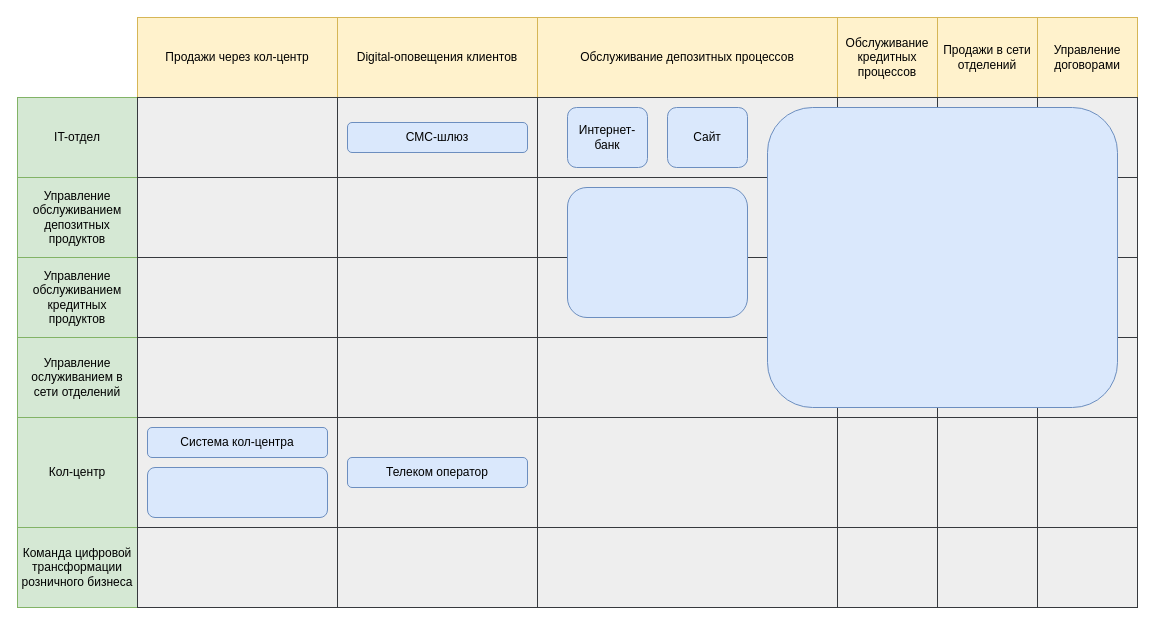
Some shapes in this 1155 by 625 pixel diagram are drawn without their labels. The box of each missing label's shape, as (x1, y1, x2, y2) in pixels:
Excel файл по электронной почте: (566, 186, 748, 318)
АБС: (766, 106, 1118, 408)
Система партнерского кол-центра: (146, 466, 328, 518)
